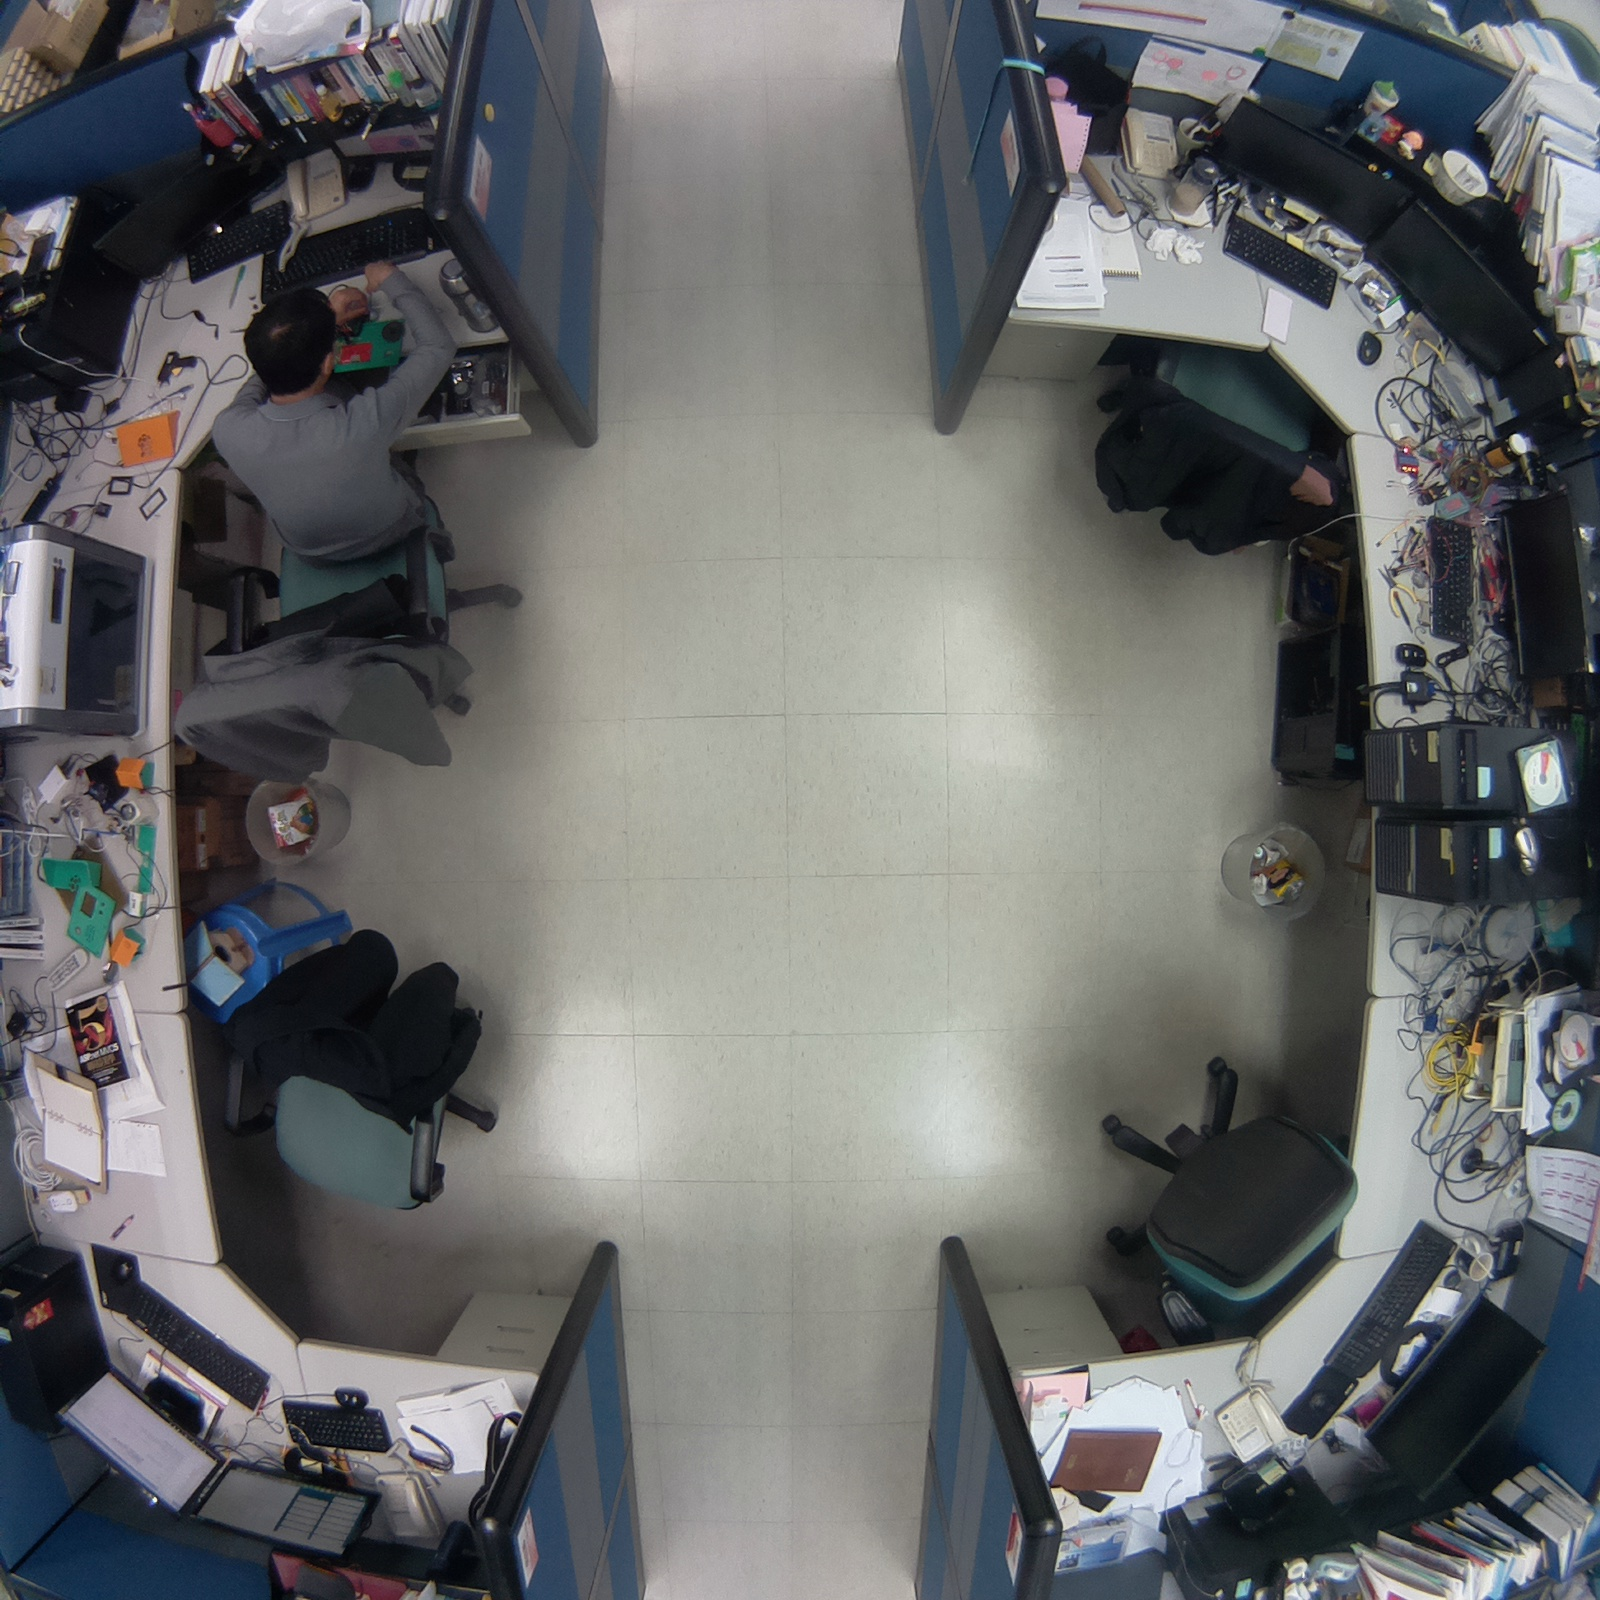chair: (201, 913, 523, 1231), (1077, 1048, 1377, 1358), (1086, 309, 1354, 574)
sitting: (152, 245, 547, 801)
